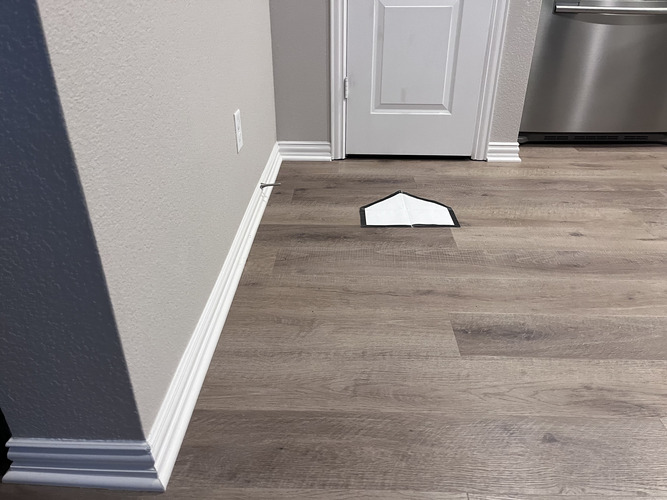homeplate: (360, 191, 460, 229)
